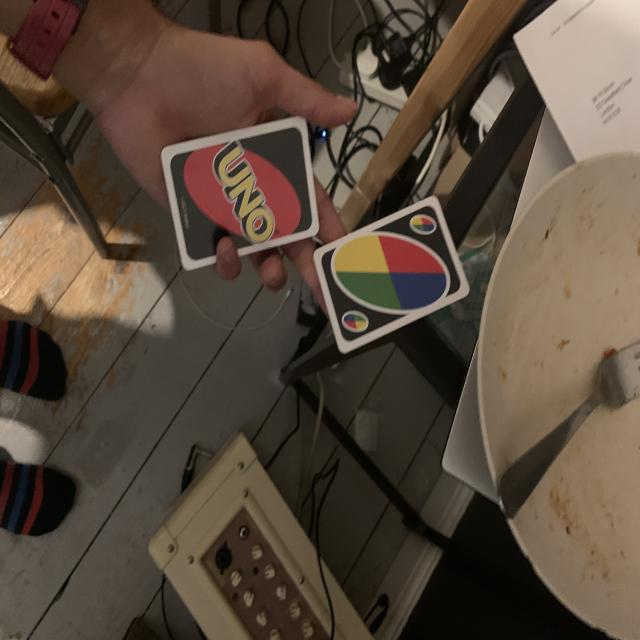lcolor-40: (408, 205, 442, 239)
